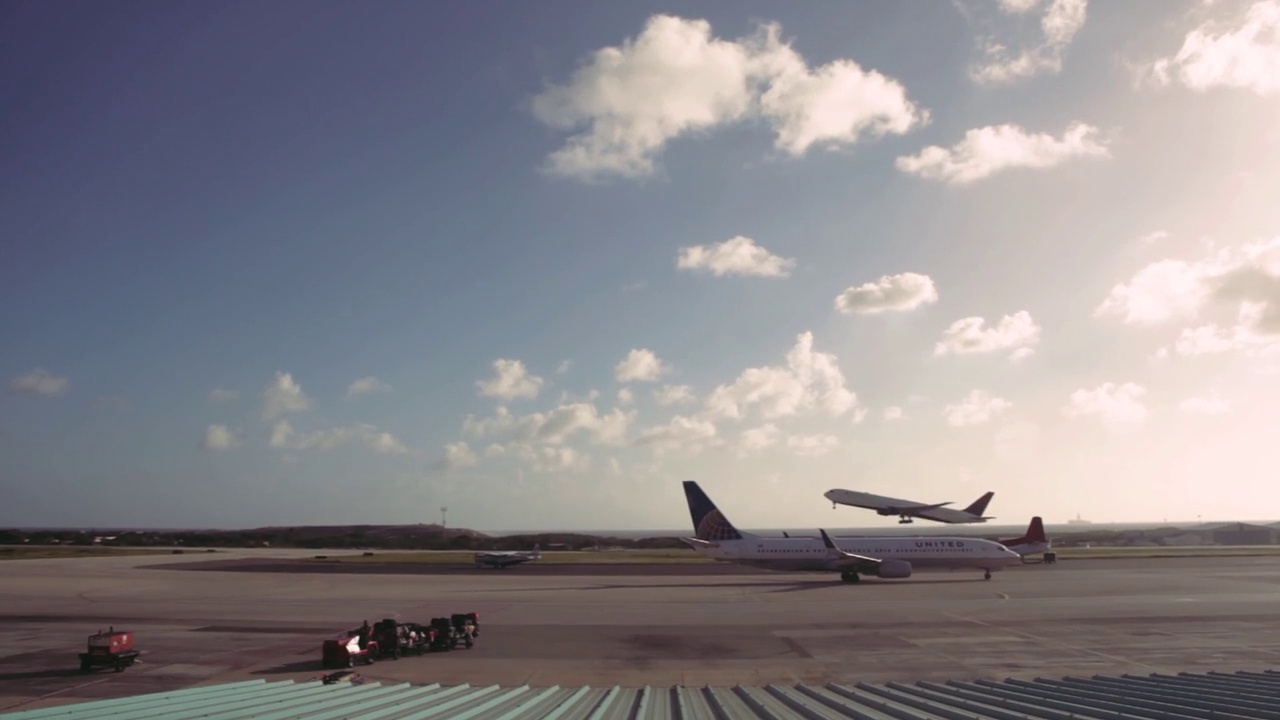plane: (678, 481, 1022, 585), (824, 484, 996, 525), (473, 544, 541, 569)
